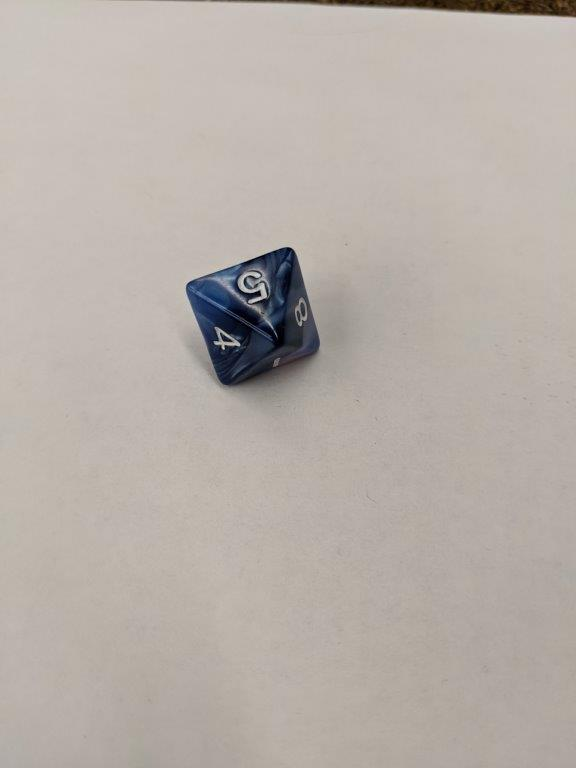d8-5: (185, 245, 323, 388)
